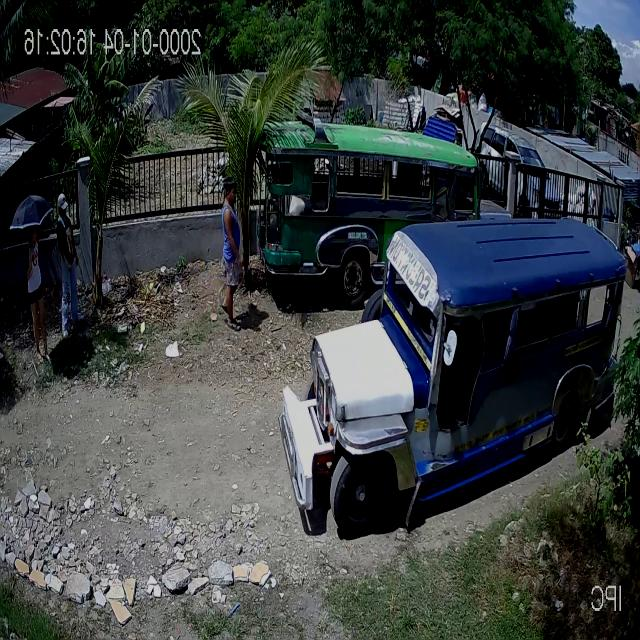standing: (52, 194, 84, 342)
walking: (204, 169, 244, 332), (26, 221, 53, 366)
